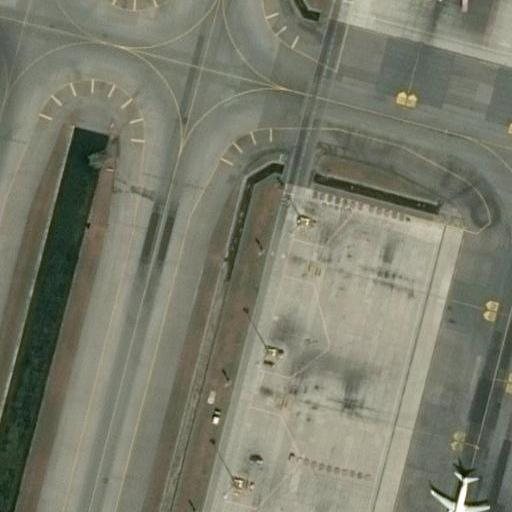Aircraft: (418, 463, 493, 512), (402, 0, 466, 7)
